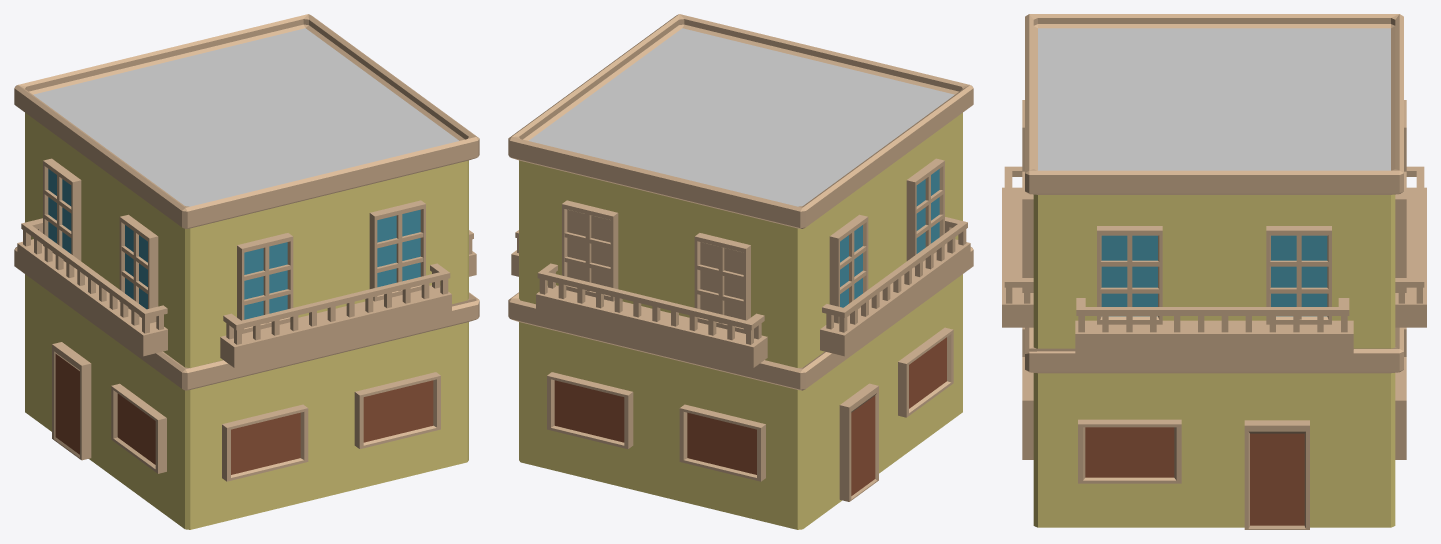
The model's file is casita2_uvs.fbx.
The picture shows the model from 3 angles, left to right: view 1: azimuth 30°, elevation 25°; view 2: azimuth 150°, elevation 25°; view 3: azimuth 270°, elevation 25°; orthographic projection. The views are drawn at different scales.
Visible parts, largest first — view 1: casa.002; view 2: casa.002; view 3: casa.002.
Boxes of the visible parts, x1,y1,x2,y2 form: casa.002: [14, 14, 479, 529]; casa.002: [508, 14, 973, 529]; casa.002: [1002, 14, 1426, 529].
Size of the model in its own units: 835 by 778 by 835.
